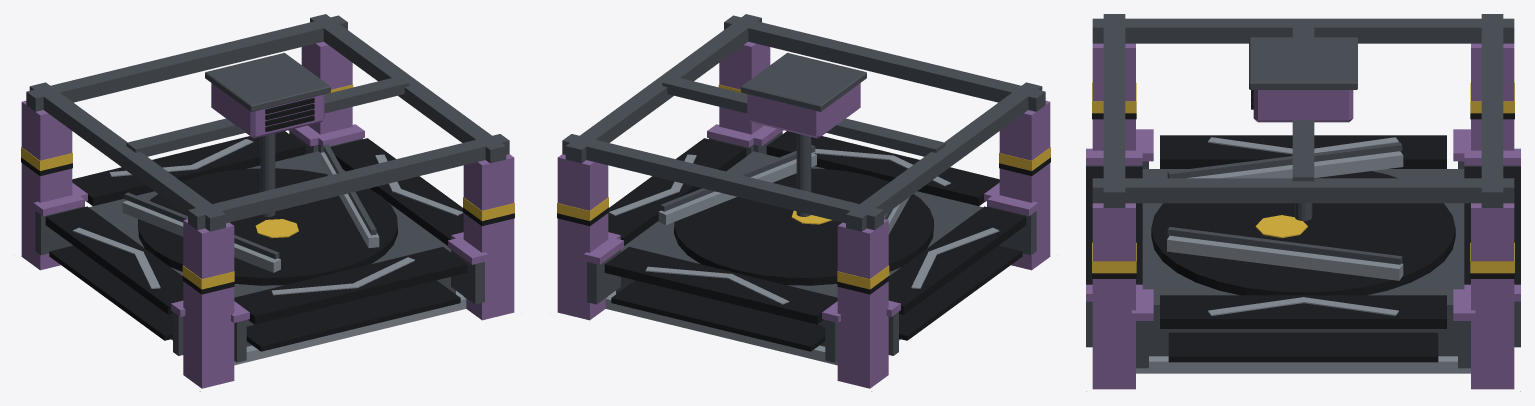
File: groupeur.glb
3 views of the same model, side by side, from view 1: azimuth 30°, elevation 25°; view 2: azimuth 150°, elevation 25°; view 3: azimuth 270°, elevation 25° (orthographic). The views are drawn at different scales.
Visible parts, largest first — view 1: pieces_acier_sombre.022, pieces_noir.030, pieces_groupeur.002, plateau_fond.006, pieces_acier.054, bande_acier.048, pieces_jaune.024; view 2: pieces_acier_sombre.022, pieces_noir.030, pieces_groupeur.002, plateau_fond.006, pieces_acier.054, bande_acier.048, pieces_jaune.024; view 3: pieces_acier_sombre.022, pieces_noir.030, pieces_groupeur.002, plateau_fond.006, pieces_acier.054, pieces_jaune.024, bande_acier.048.
Part boxes in pixels (left/top/right/bottom): pieces_acier_sombre.022: left=26, top=14, right=509, bottom=362; pieces_noir.030: left=21, top=97, right=514, bottom=351; pieces_groupeur.002: left=21, top=41, right=514, bottom=388; plateau_fond.006: left=138, top=168, right=397, bottom=285; pieces_acier.054: left=122, top=152, right=466, bottom=365; bande_acier.048: left=72, top=139, right=462, bottom=295; pieces_jaune.024: left=21, top=84, right=514, bottom=289; pieces_acier_sombre.022: left=562, top=14, right=1045, bottom=362; pieces_noir.030: left=557, top=131, right=1050, bottom=351; pieces_groupeur.002: left=557, top=41, right=1050, bottom=388; plateau_fond.006: left=674, top=168, right=933, bottom=285; pieces_acier.054: left=605, top=152, right=909, bottom=365; bande_acier.048: left=609, top=148, right=999, bottom=304; pieces_jaune.024: left=557, top=84, right=1050, bottom=289; pieces_acier_sombre.022: left=1086, top=14, right=1520, bottom=368; pieces_noir.030: left=1086, top=90, right=1520, bottom=362; pieces_groupeur.002: left=1086, top=43, right=1520, bottom=389; plateau_fond.006: left=1151, top=171, right=1455, bottom=295; pieces_acier.054: left=1136, top=151, right=1470, bottom=373; pieces_jaune.024: left=1092, top=82, right=1514, bottom=273; bande_acier.048: left=1208, top=137, right=1398, bottom=315.
Size of the model in its own units: 1 by 0.61 by 1.
